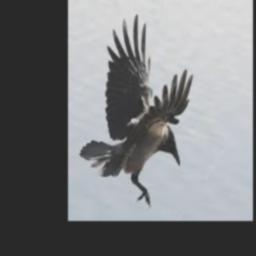Crow: (79, 13, 192, 209)
